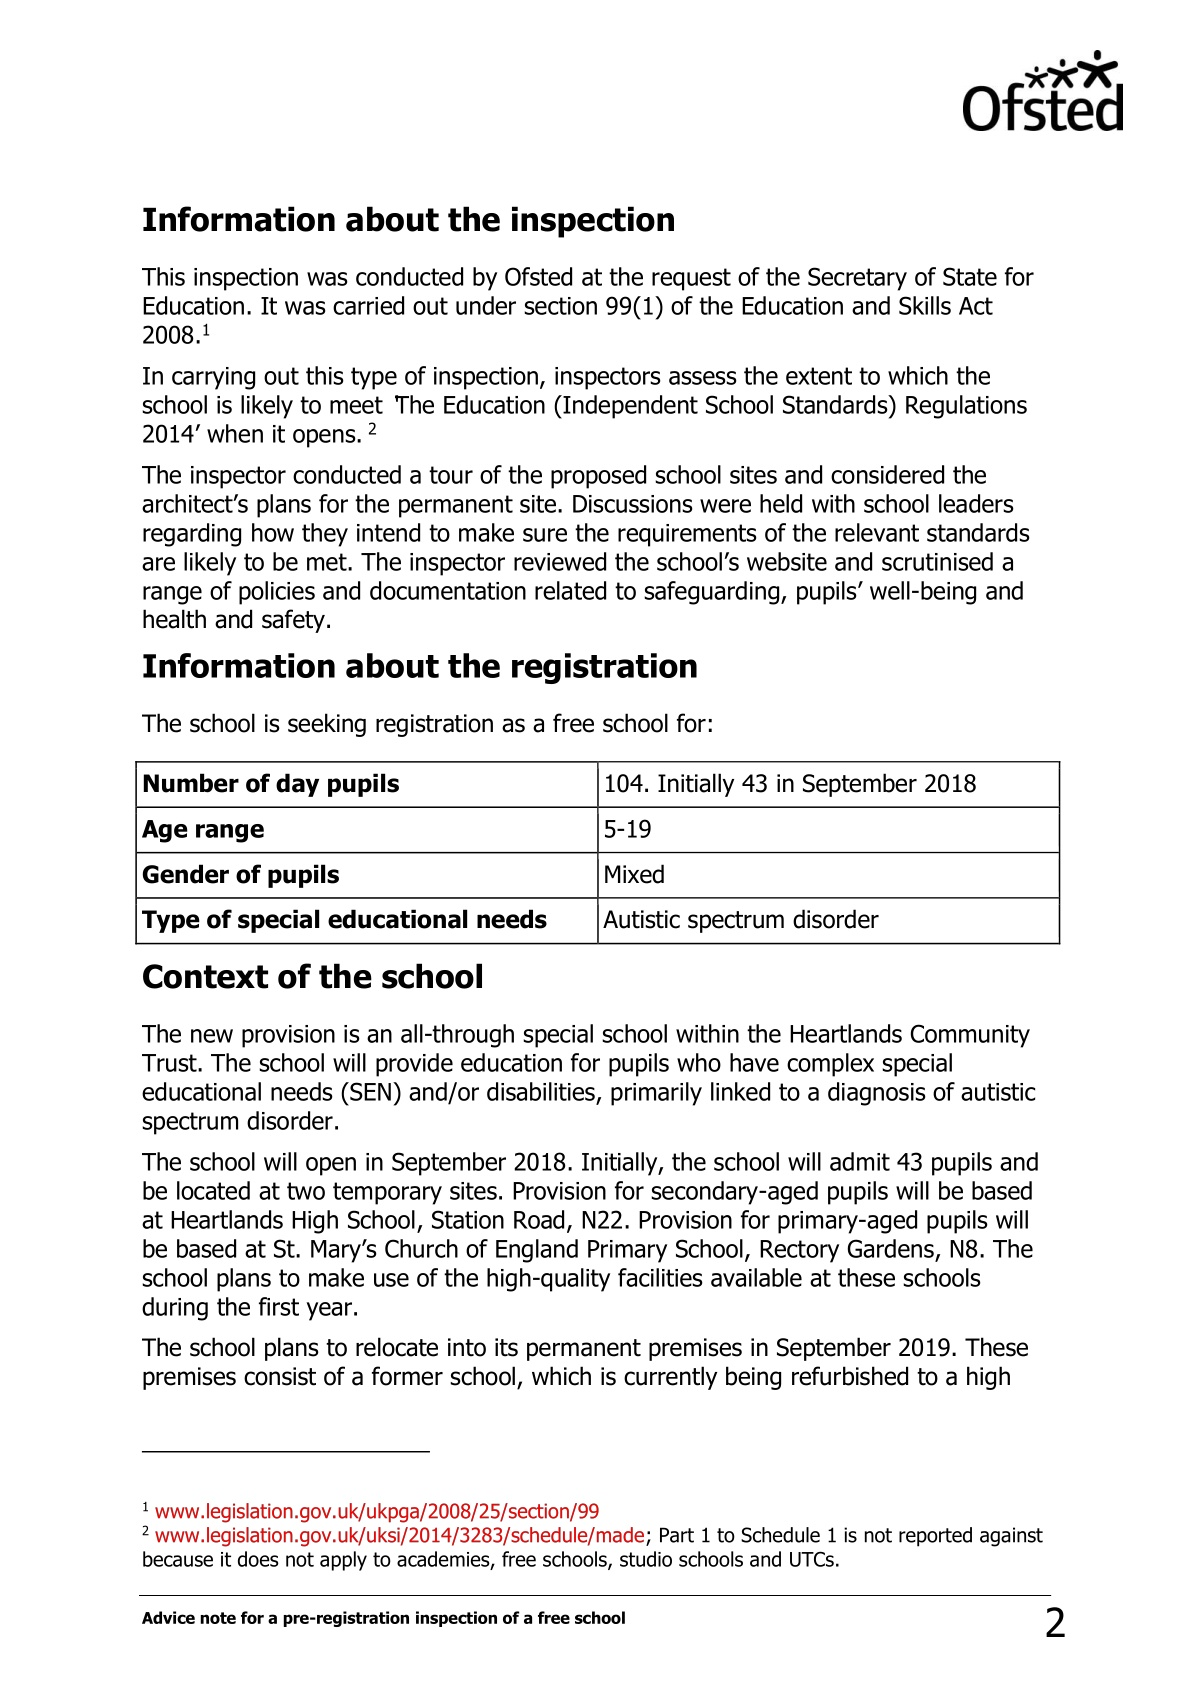full_lined: (134, 760, 1062, 946)
